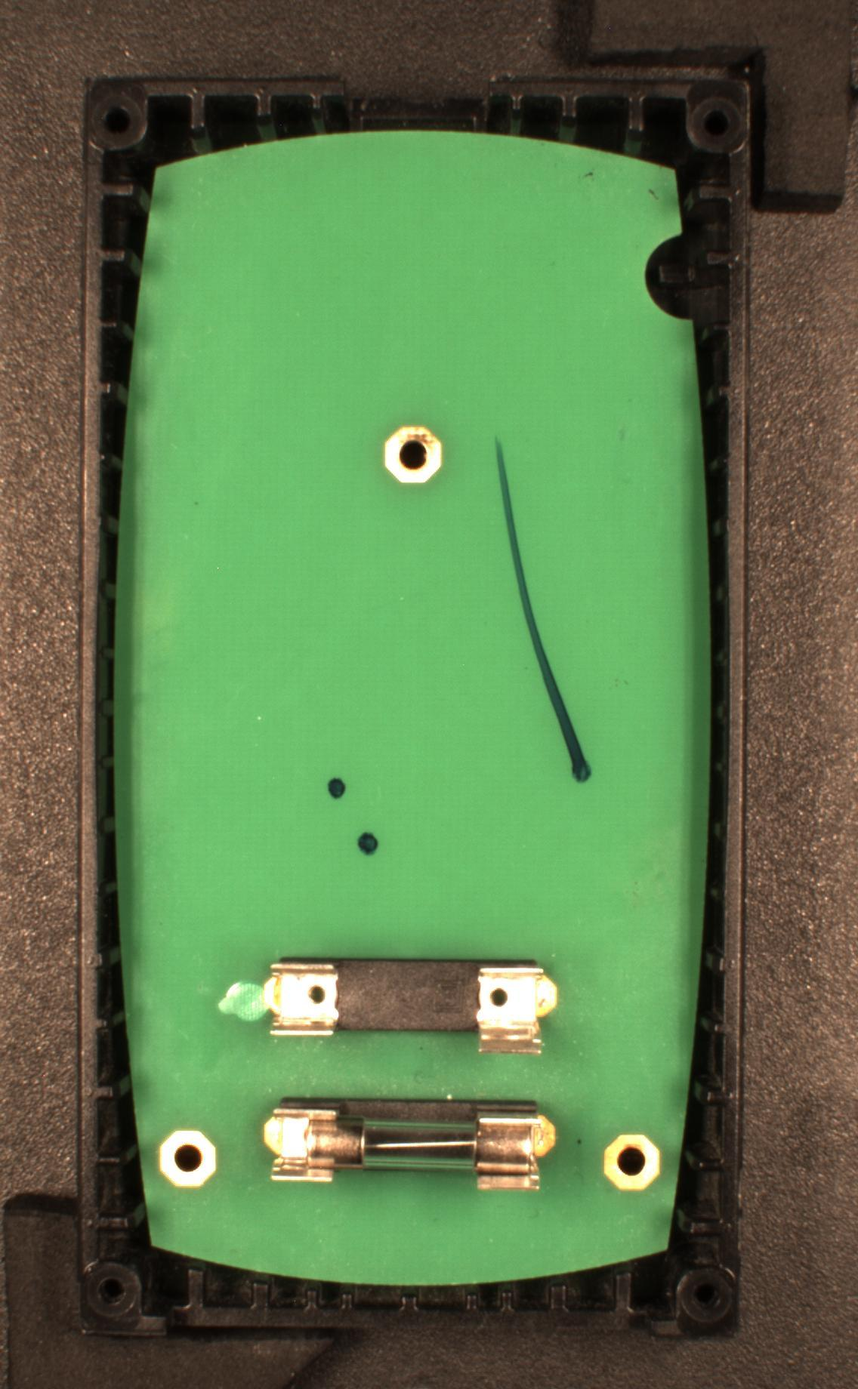Linijsko Ostecene: (490, 434, 596, 787)
Nepostojanje osiguraca: (262, 952, 562, 1057)
Tockasto Ostecenje: (324, 775, 349, 805), (356, 830, 380, 858)
